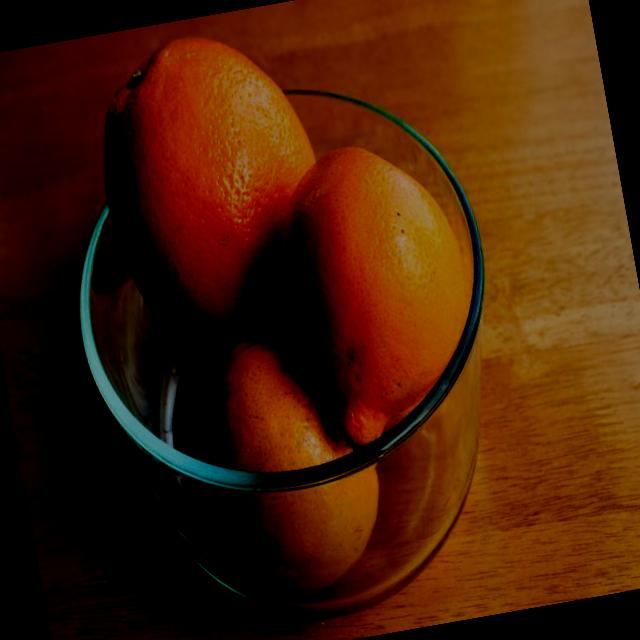Orange: (80, 16, 346, 367), (258, 128, 491, 454), (176, 312, 396, 608)
